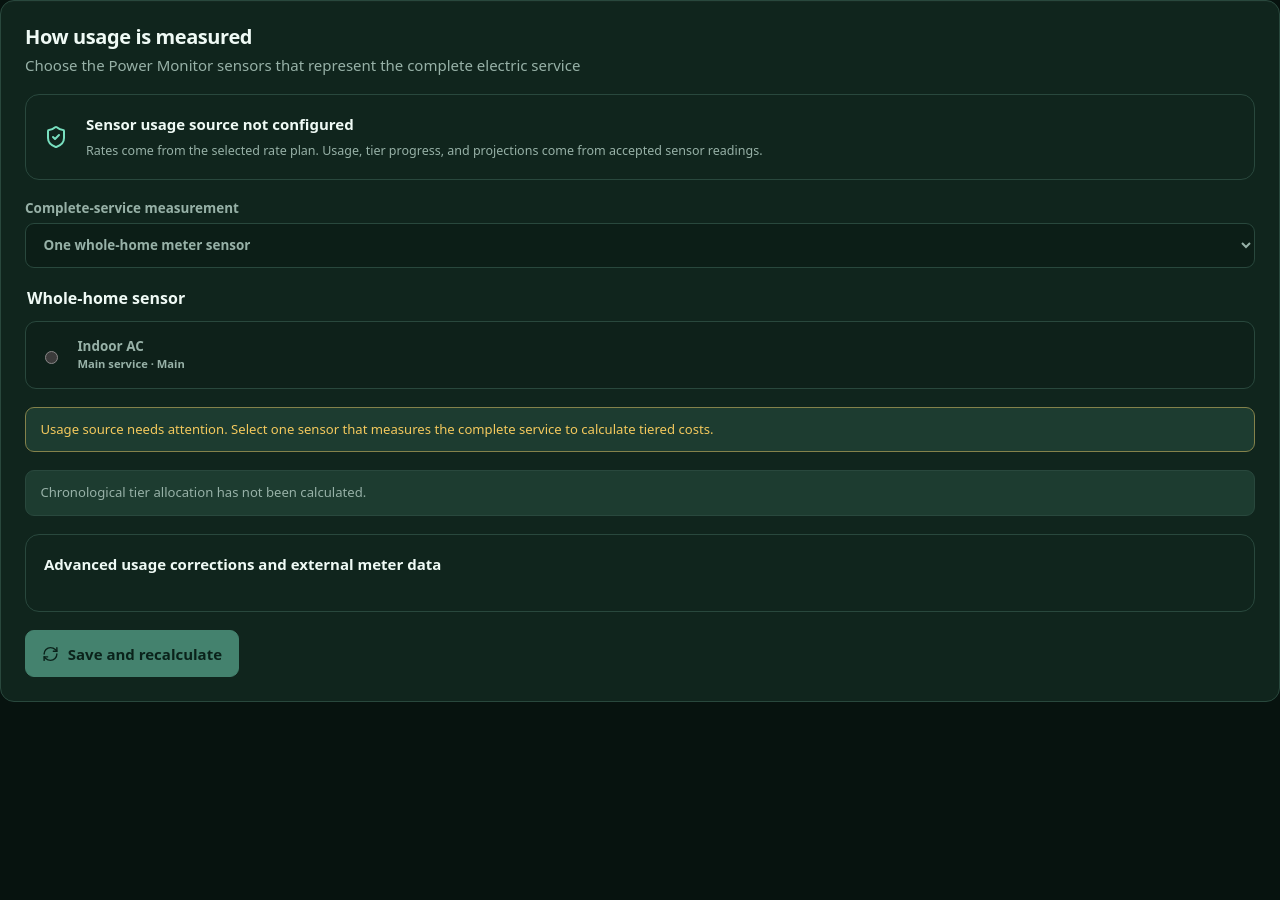
it: sensor topology and tier allocation setup › saves a sensor measurement authority before recalculating the current cycle
expect the text "Sensor usage source not configured" is shown: met, box top-left (86, 114), bottom-right (354, 134)
Click the radio button labelled "Indoor AC Main service · Main".
click(52, 358)  # box top-left (45, 351), bottom-right (58, 364)
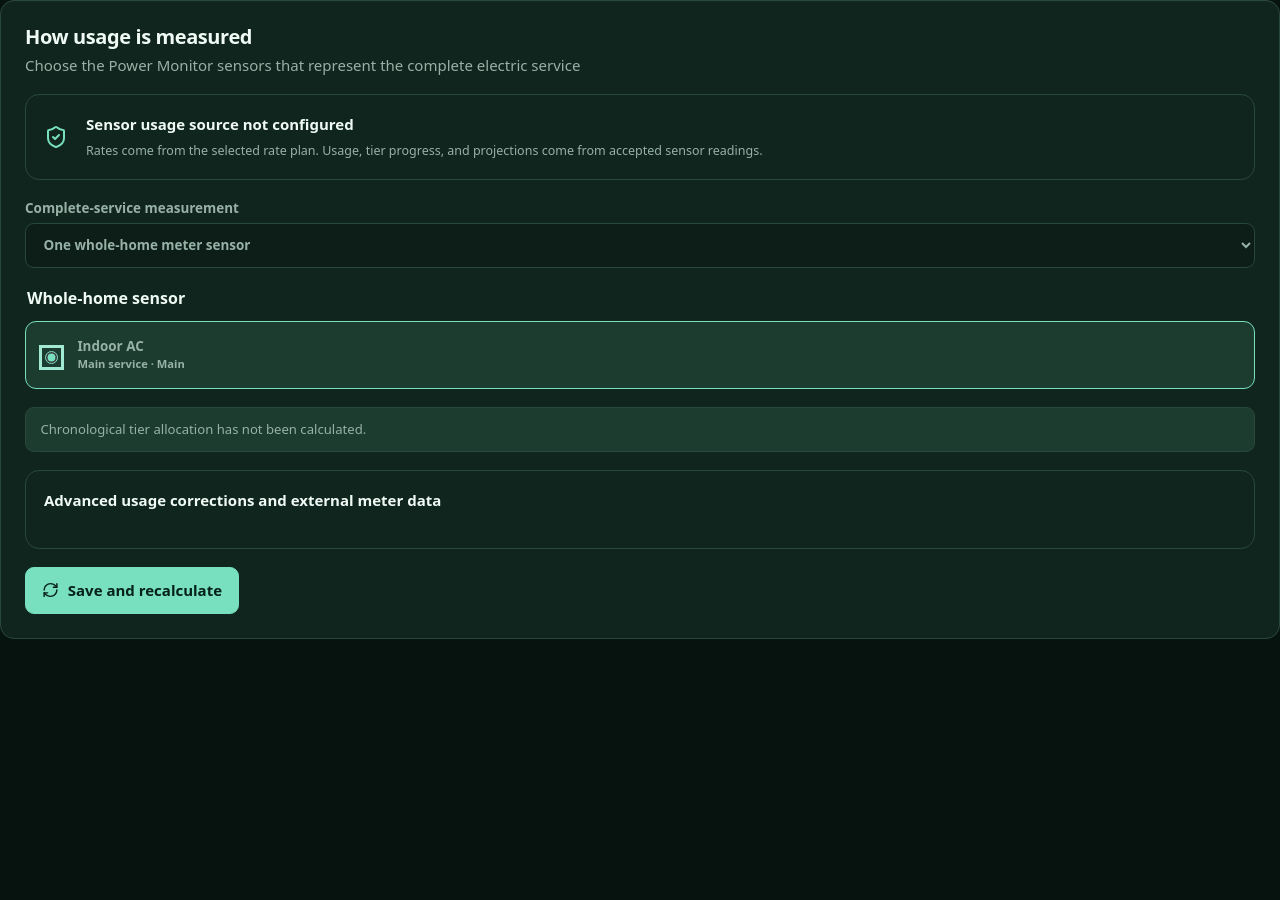
Click the button "Save and recalculate".
click(132, 590)  # box top-left (25, 567), bottom-right (239, 614)
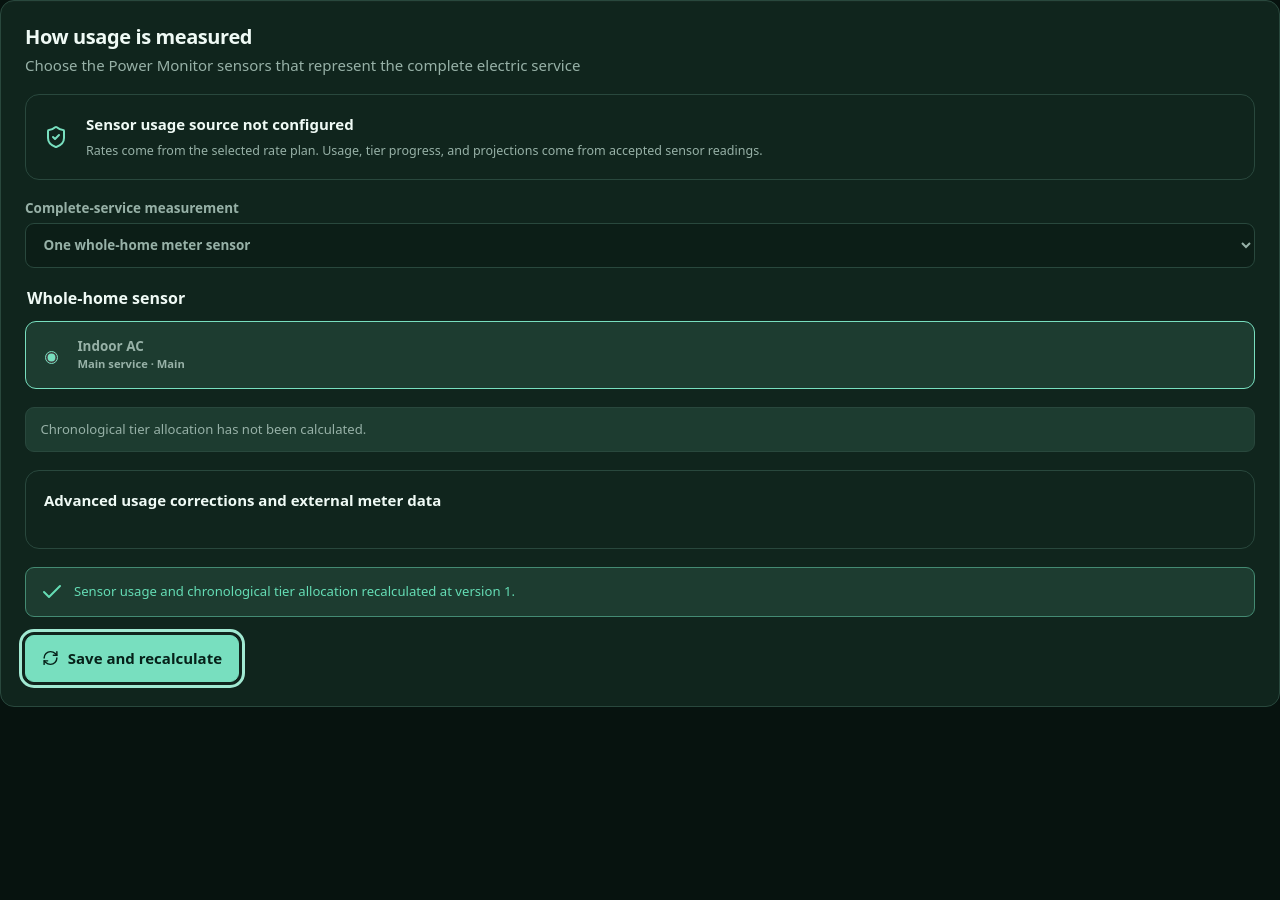
expect the text "Sensor usage and chronological tier allocation recalculated at version 1." is shown: met, box top-left (25, 567), bottom-right (1255, 617)
